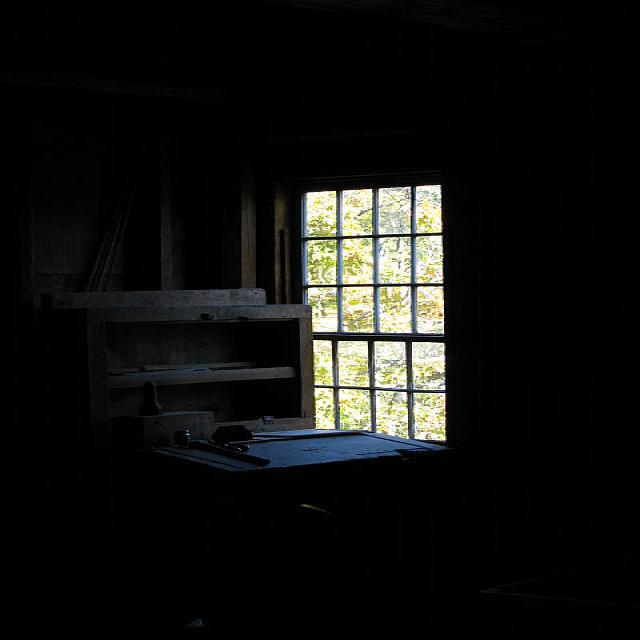Table: (129, 414, 540, 635), (0, 289, 327, 504)
